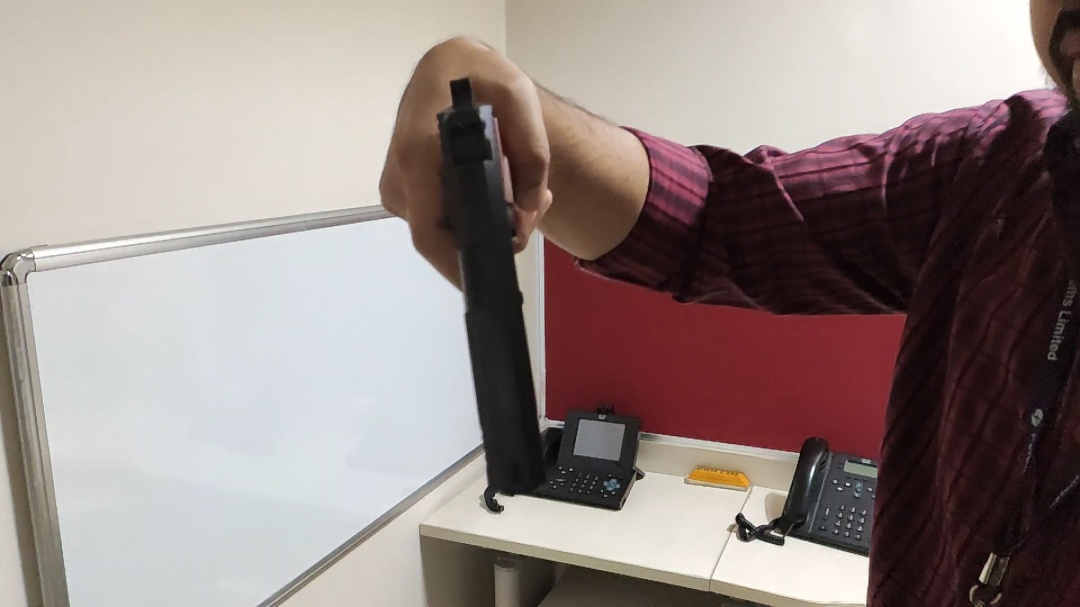gun: (429, 72, 550, 498)
